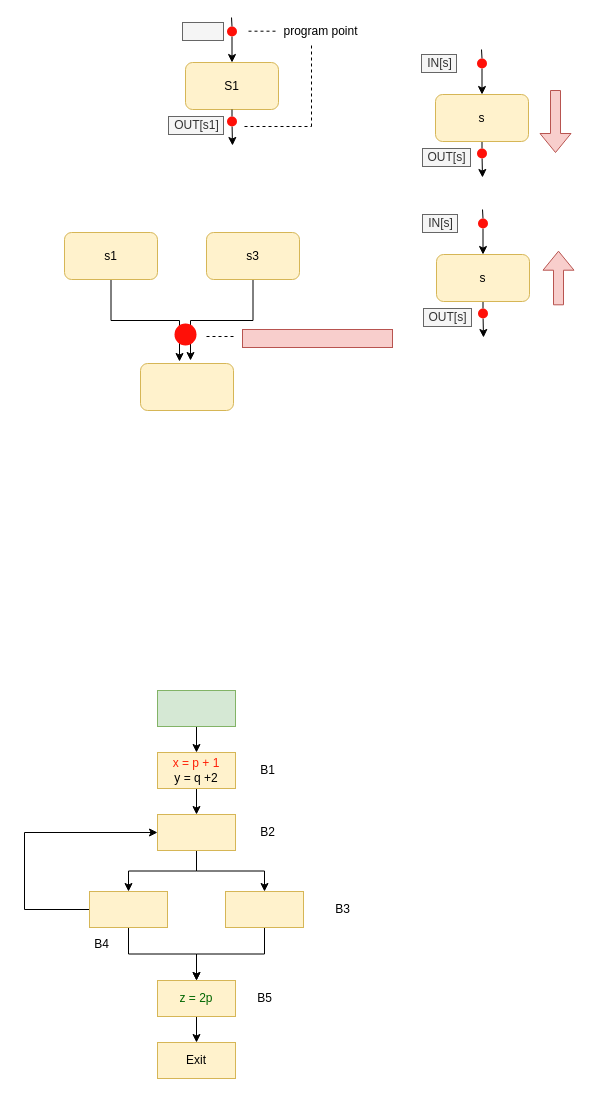
Image size: 592x1096. Some labels were removed from this diagram. The centre of each missing label's shape, as x and y in pixels:
"Entry" goes at point (196, 708).
"IN[s1]" goes at point (203, 31).
"IN[s2 = OUT[s1] ^ OUT[s3" goes at point (317, 338).
"m = k y = q - 1" goes at point (196, 832).
"s2" goes at point (187, 386).
"x = 4 z = 5" goes at point (128, 909).
"x = m - 3" goes at point (264, 909).
